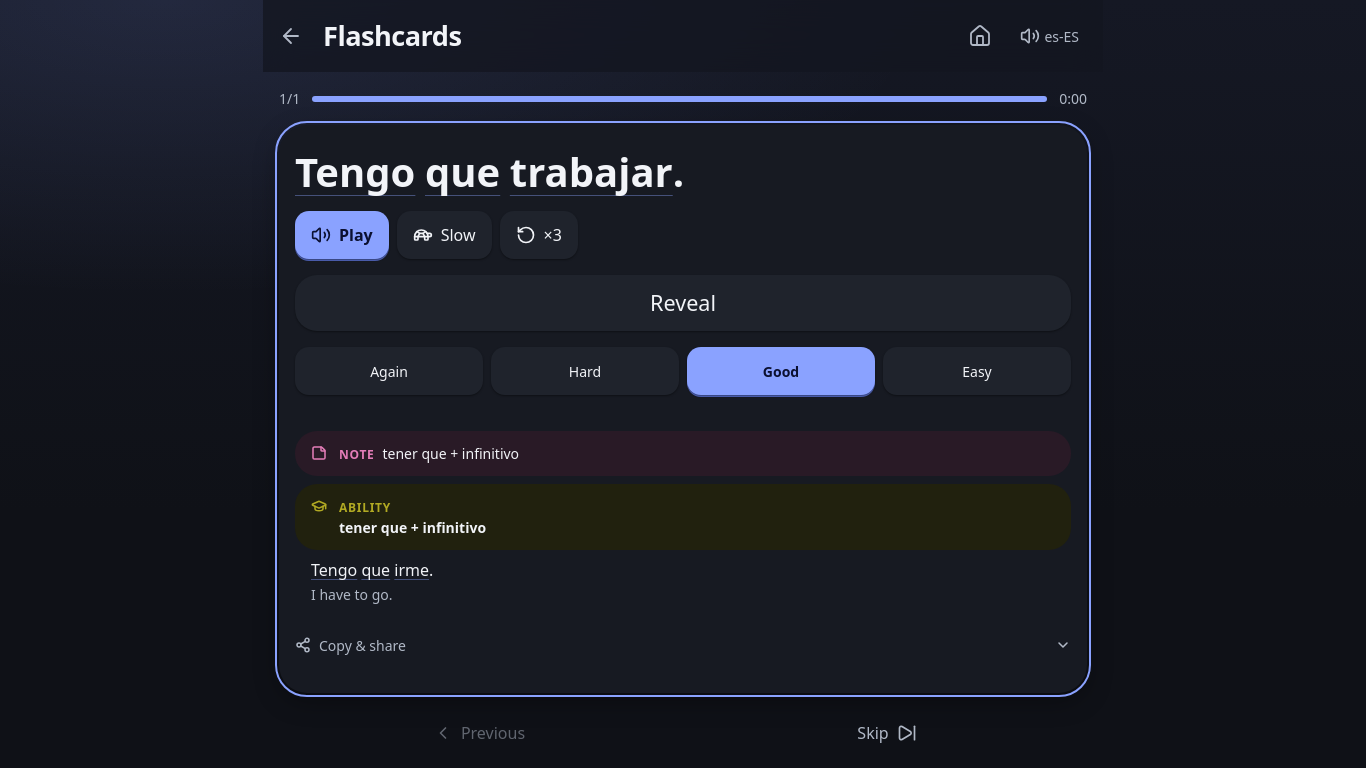
selecting a phrase › offers to grow the selection by the next word, naming it
This screenshot has width=1366, height=768.
Click the button with aria-label "About “Tengo”": (355, 172) [295,149,415,195]
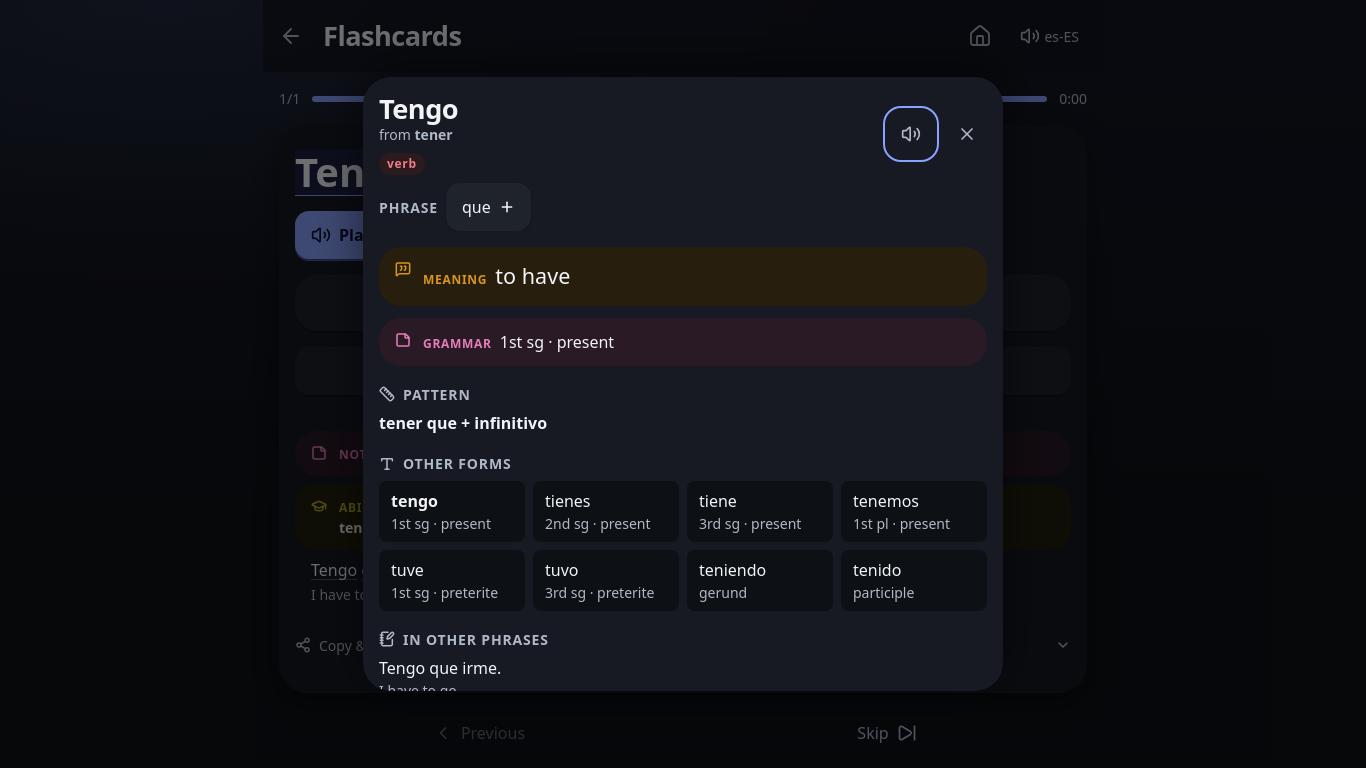
expect the button with aria-label "Add “que” after" is shown: met, box [446,183,531,231]
